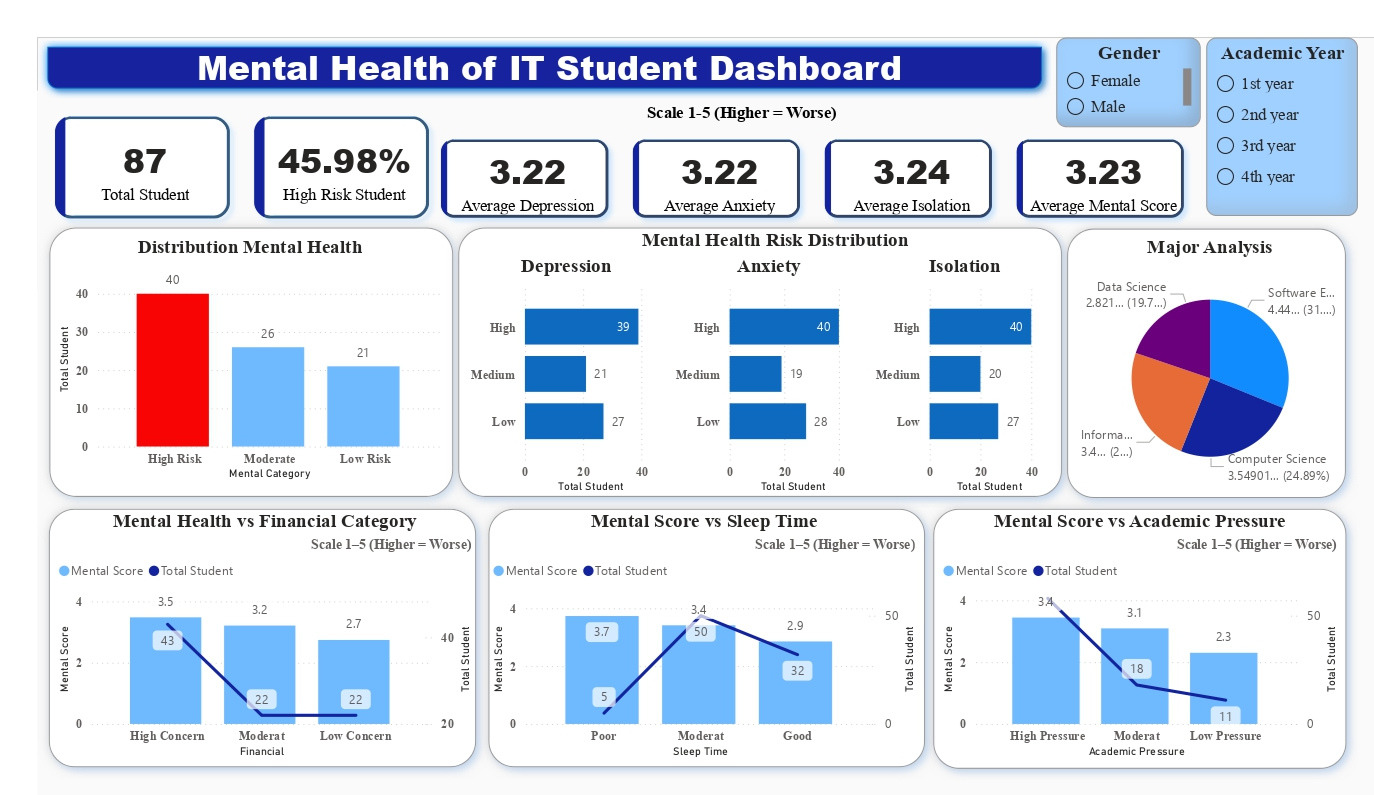

Layout of this report page (visuals, bound fields, positions):
{"tool":"powerbi","page":{"name":"Page 1","canvas":[1280,720],"ordinal":0},"visuals":[{"type":"cardVisual","fields":{"Data":["public mh_analysis.Total Student","public mh_analysis.% High Risk"]},"box":[0,59.1,396.7,133.3],"z":0},{"type":"cardVisual","title":"Medium Risk","fields":{"Data":["public mh_analysis.Average Depression","public mh_analysis.Average Anxiety","public mh_data.Average Isolation","public mh_analysis.Average Mental Score"]},"box":[374,86.3,754.1,106],"z":1000},{"type":"shape","box":[0,0,982,58.6],"z":2000},{"type":"textbox","box":[123.3,1.7,746.7,58.3],"z":3000},{"type":"shape","box":[0,172.6,413.4,283.2],"z":4000},{"type":"columnChart","title":"Distribution Mental Health","fields":{"Category":["public mh_analysis.mental_category"],"Y":["public mh_analysis.Total Student"]},"box":[15.1,192.3,381.6,240.8],"z":5000},{"type":"shape","box":[857,445.2,422.5,274.1],"z":6000},{"type":"shape","box":[0,445.2,436.1,272.6],"z":7000},{"type":"lineStackedColumnComboChart","title":" Mental Score vs Academic Pressure","fields":{"Category":["public mh_analysis.ap_category"],"Y":["public mh_analysis.Average Mental Score"],"Y2":["public mh_analysis.Total Student"]},"box":[872.2,457.3,392.2,245.3],"z":8000},{"type":"lineStackedColumnComboChart","title":"Mental Health vs Financial Category","fields":{"Category":["public mh_analysis.financial_category"],"Y2":["public mh_analysis.Total Student"],"Y":["public mh_analysis.Average Mental Score"]},"box":[15.1,457.3,410.3,245.3],"z":9000},{"type":"shape","box":[425.5,445.2,445.2,272.6],"z":10000},{"type":"lineStackedColumnComboChart","title":"Mental Score vs Sleep Time","fields":{"Category":["public mh_analysis.sleep_category"],"Y2":["public mh_analysis.Total Student"],"Y":["public mh_analysis.Average Mental Score"]},"box":[436.1,457.3,419.4,245.3],"z":11000},{"type":"shape","title":"Mental Health Factor","box":[396.7,172.6,607.2,283.2],"z":12000},{"type":"shape","box":[987.3,174.1,292.2,283.2],"z":13000},{"type":"pieChart","title":"Major Analysis","fields":{"Category":["public mh_data.degree_major"],"Y":["public mh_analysis.Average Mental Score"]},"box":[1003.9,192.3,265,254.4],"z":14000},{"type":"barChart","title":"Depression","fields":{"Y":["public mh_analysis.Total Student"],"Category":["public mh_analysis.depression_category"]},"box":[413.4,210.5,198.4,234.7],"z":15000},{"type":"barChart","title":"Anxiety","fields":{"Category":["public mh_data.anxiety_category"],"Y":["public mh_analysis.Total Student"]},"box":[611.7,210.5,193.8,234.7],"z":16000},{"type":"barChart","title":"Isolation","fields":{"Y":["public mh_analysis.Total Student"],"Category":["public mh_analysis.isolation_category"]},"box":[805.6,210.5,186.2,234.7],"z":17000},{"type":"textbox","box":[530,180.2,369.5,34.8],"z":18000},{"type":"listSlicer","fields":{"Values":["public mh_analysis.gender"]},"box":[987.1,0,140,87.1],"z":19000},{"type":"listSlicer","fields":{"Values":["public mh_analysis.academic_year"]},"box":[1133.3,0,146.7,173.3],"z":20000},{"type":"textbox","box":[396.7,58.3,571.7,35],"z":21000}]}

Visuals, with their boxes in screenshot pixels (x1, y1, x2, y2), scaled from the page's 1280x720 canvas onto the 1374x795 screenshot:
cardVisual - public mh_analysis.Total Student x public mh_analysis.% High Risk: bbox=[0, 65, 426, 212]
"Medium Risk" cardVisual: bbox=[401, 95, 1211, 212]
shape: bbox=[0, 0, 1054, 65]
textbox: bbox=[132, 2, 934, 66]
shape: bbox=[0, 191, 444, 503]
"Distribution Mental Health" columnChart: bbox=[16, 212, 426, 478]
shape: bbox=[920, 492, 1373, 794]
shape: bbox=[0, 492, 468, 793]
" Mental Score vs Academic Pressure" lineStackedColumnComboChart: bbox=[936, 505, 1357, 776]
"Mental Health vs Financial Category" lineStackedColumnComboChart: bbox=[16, 505, 457, 776]
shape: bbox=[457, 492, 935, 793]
"Mental Score vs Sleep Time" lineStackedColumnComboChart: bbox=[468, 505, 918, 776]
"Mental Health Factor" shape: bbox=[426, 191, 1078, 503]
shape: bbox=[1060, 192, 1373, 505]
"Major Analysis" pieChart: bbox=[1078, 212, 1362, 493]
"Depression" barChart: bbox=[444, 232, 657, 492]
"Anxiety" barChart: bbox=[657, 232, 865, 492]
"Isolation" barChart: bbox=[865, 232, 1065, 492]
textbox: bbox=[569, 199, 966, 237]
listSlicer - public mh_analysis.gender: bbox=[1060, 0, 1210, 96]
listSlicer - public mh_analysis.academic_year: bbox=[1217, 0, 1373, 191]
textbox: bbox=[426, 64, 1040, 103]
